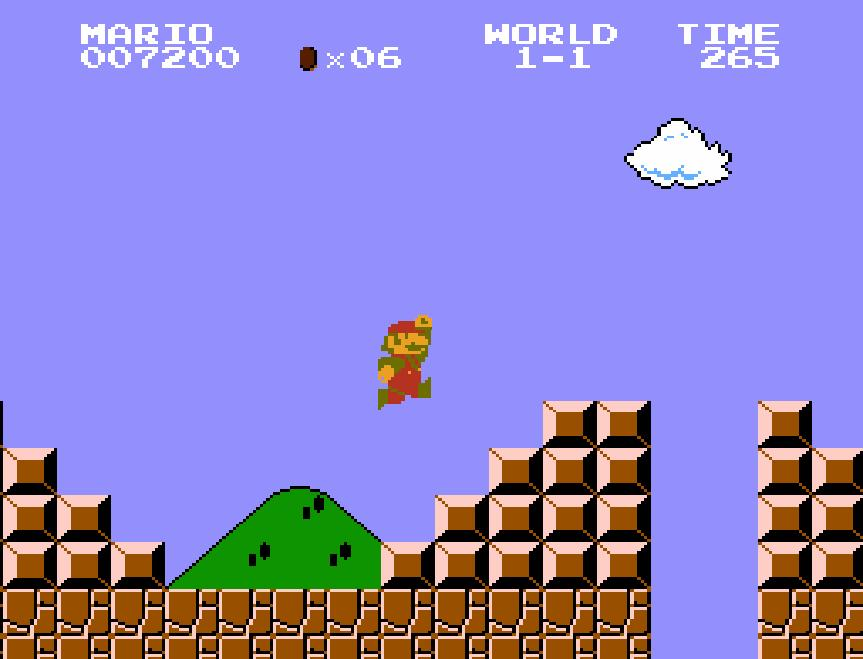big_mario: (376, 313, 434, 411)
